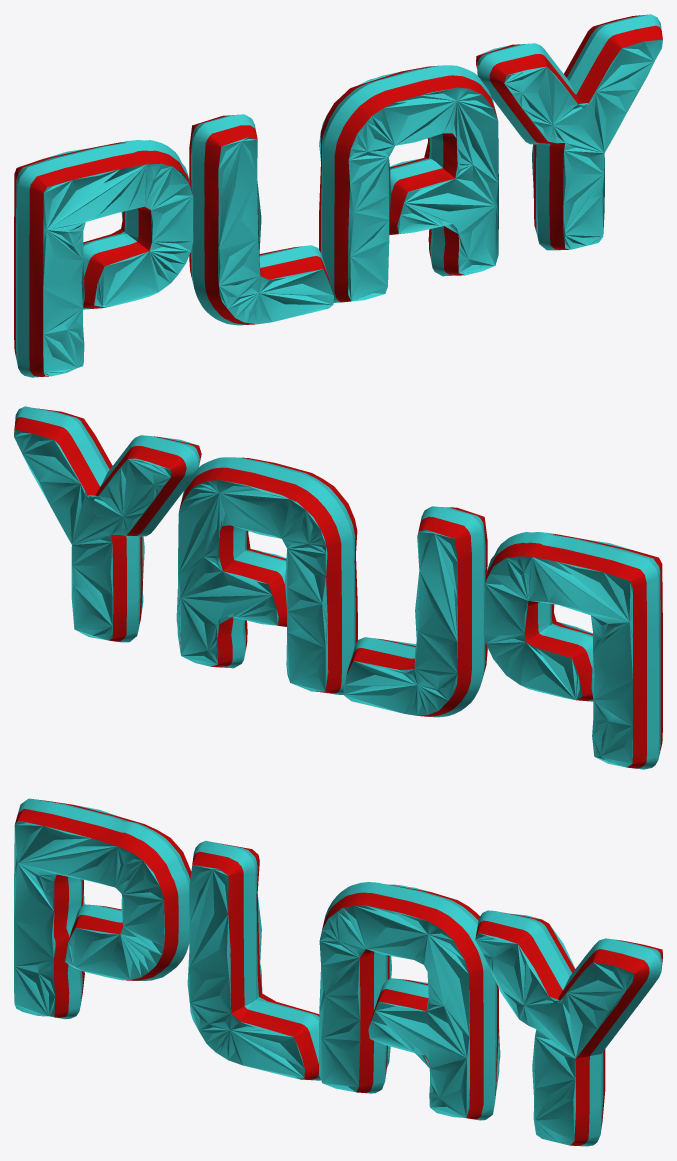
Rendered from TextPlay.fbx.
The picture shows the model from 3 angles, top to bottom: view 1: azimuth 30°, elevation 25°; view 2: azimuth 150°, elevation 25°; view 3: azimuth 330°, elevation 25°; orthographic projection.
Visible parts, largest first — view 1: TextPlay; view 2: TextPlay; view 3: TextPlay.
Part boxes in pixels (x1,y1,x2,y2): TextPlay: [14, 14, 662, 377]; TextPlay: [14, 406, 662, 769]; TextPlay: [14, 798, 662, 1146].
Bounding box in the file's own units: 2522 × 801 × 238.
